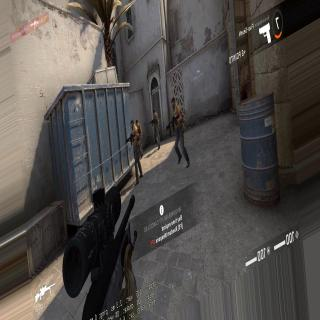T-Body: (170, 96, 188, 168), (129, 119, 143, 184), (151, 108, 161, 151), (136, 120, 144, 158)
T-Head: (172, 98, 176, 109), (130, 119, 134, 129), (152, 108, 156, 115), (136, 119, 138, 124)
